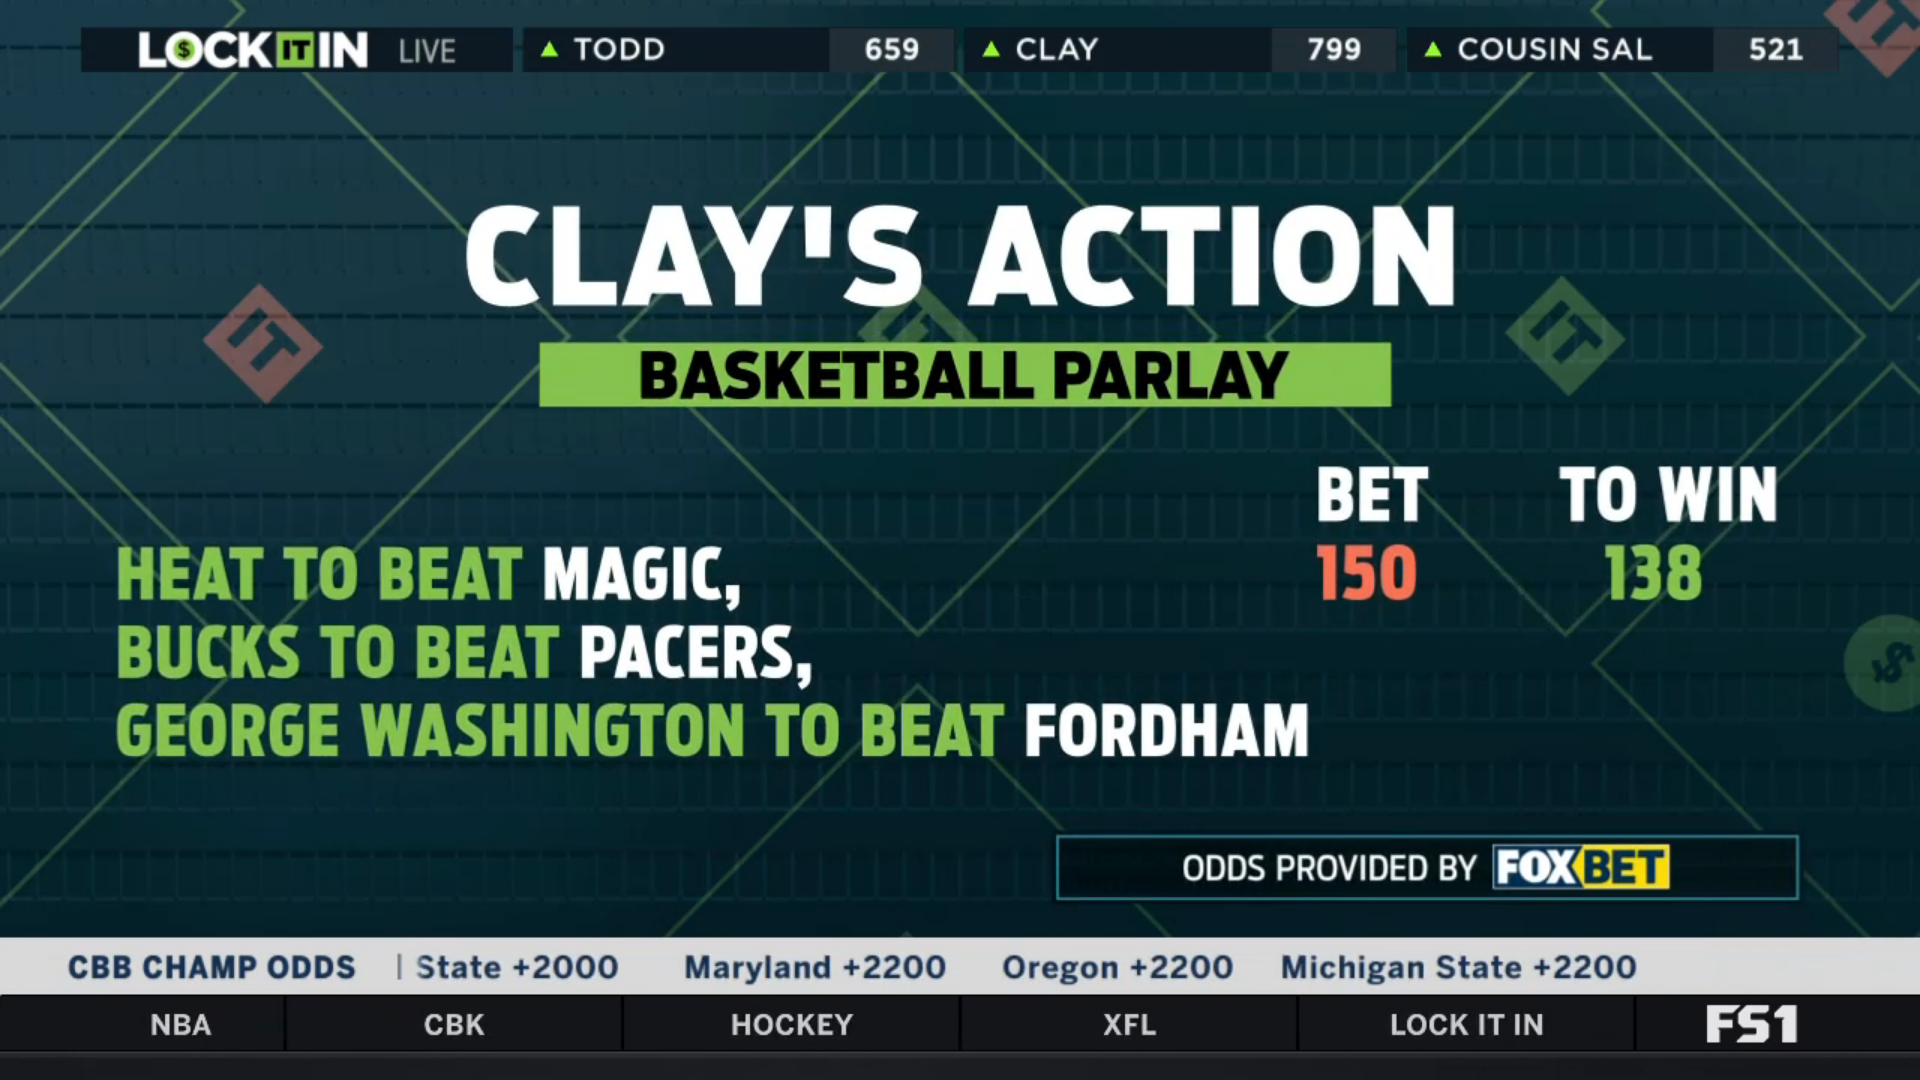Bet: (100, 531, 1315, 769)
Bet Amount: (1307, 454, 1436, 613)
Subtitle: (527, 332, 1400, 415)
Title: (448, 189, 1472, 323)
To Win: (1547, 452, 1787, 620)
Top Bar: (73, 15, 1847, 80)
